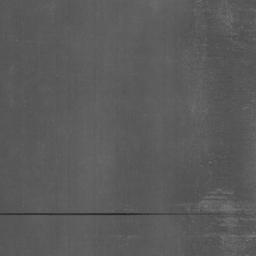Crease: (0, 211, 223, 216)
